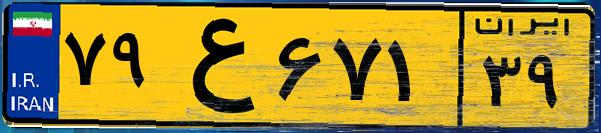1: (385, 28, 445, 110)
3: (475, 38, 525, 113)
6: (270, 28, 330, 110)
7: (330, 28, 385, 110), (57, 26, 110, 100)
9: (525, 38, 570, 115), (110, 28, 158, 98)
ع: (158, 12, 270, 120)
